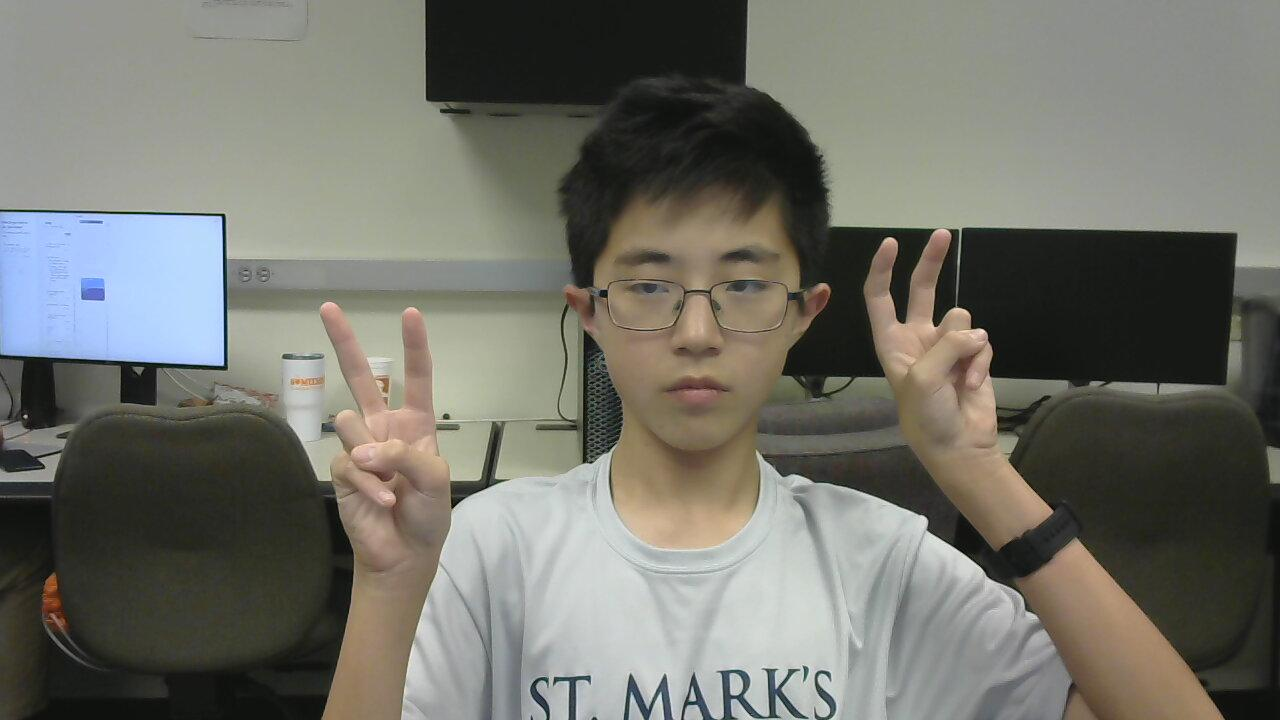peace: (288, 282, 456, 594), (851, 222, 1014, 499)
